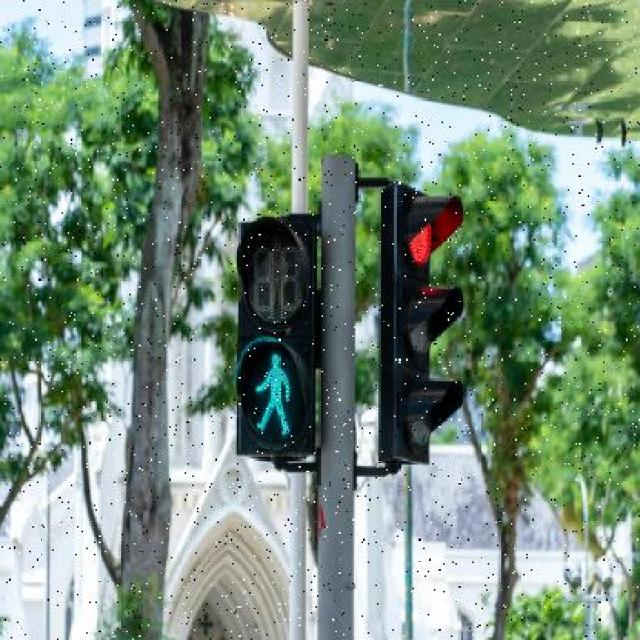green-light: (228, 221, 322, 470)
red-light: (375, 172, 477, 491)
